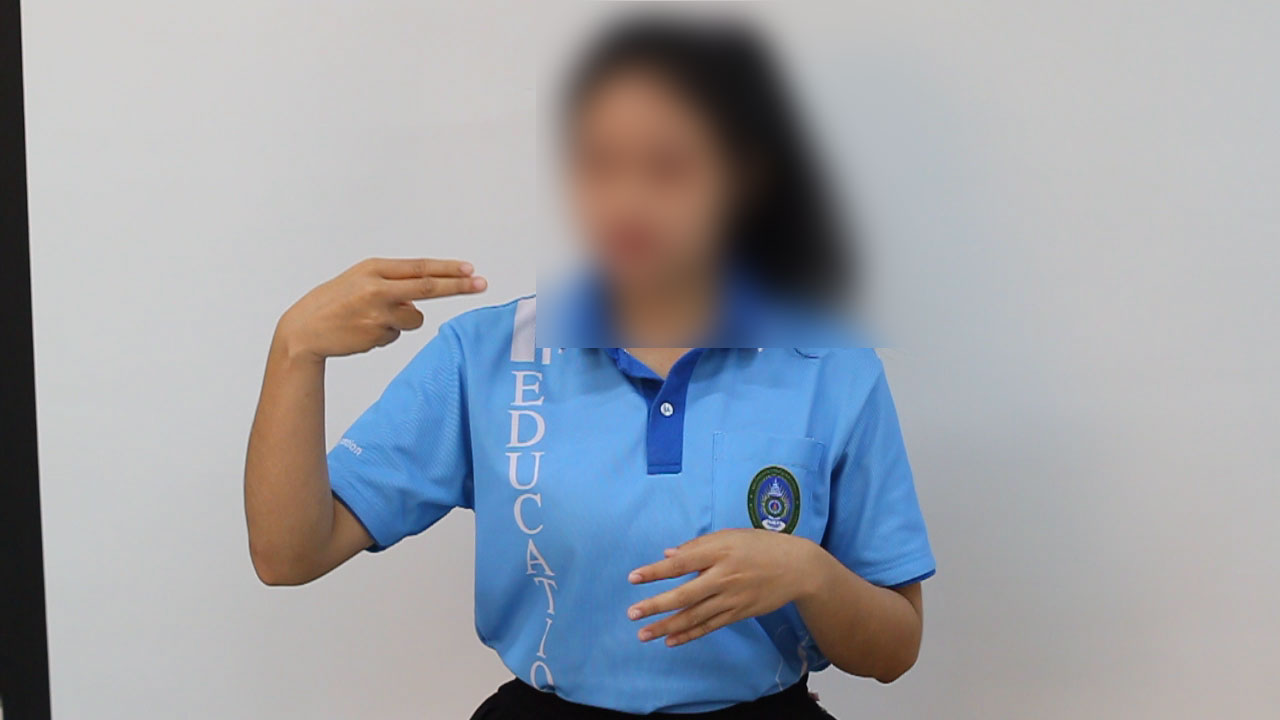hor: (245, 243, 501, 369)
